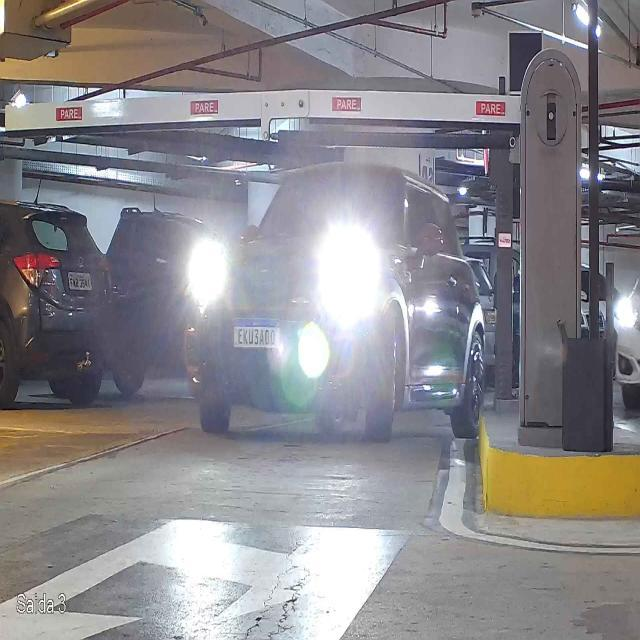mercosul_plate: (230, 317, 282, 349)
